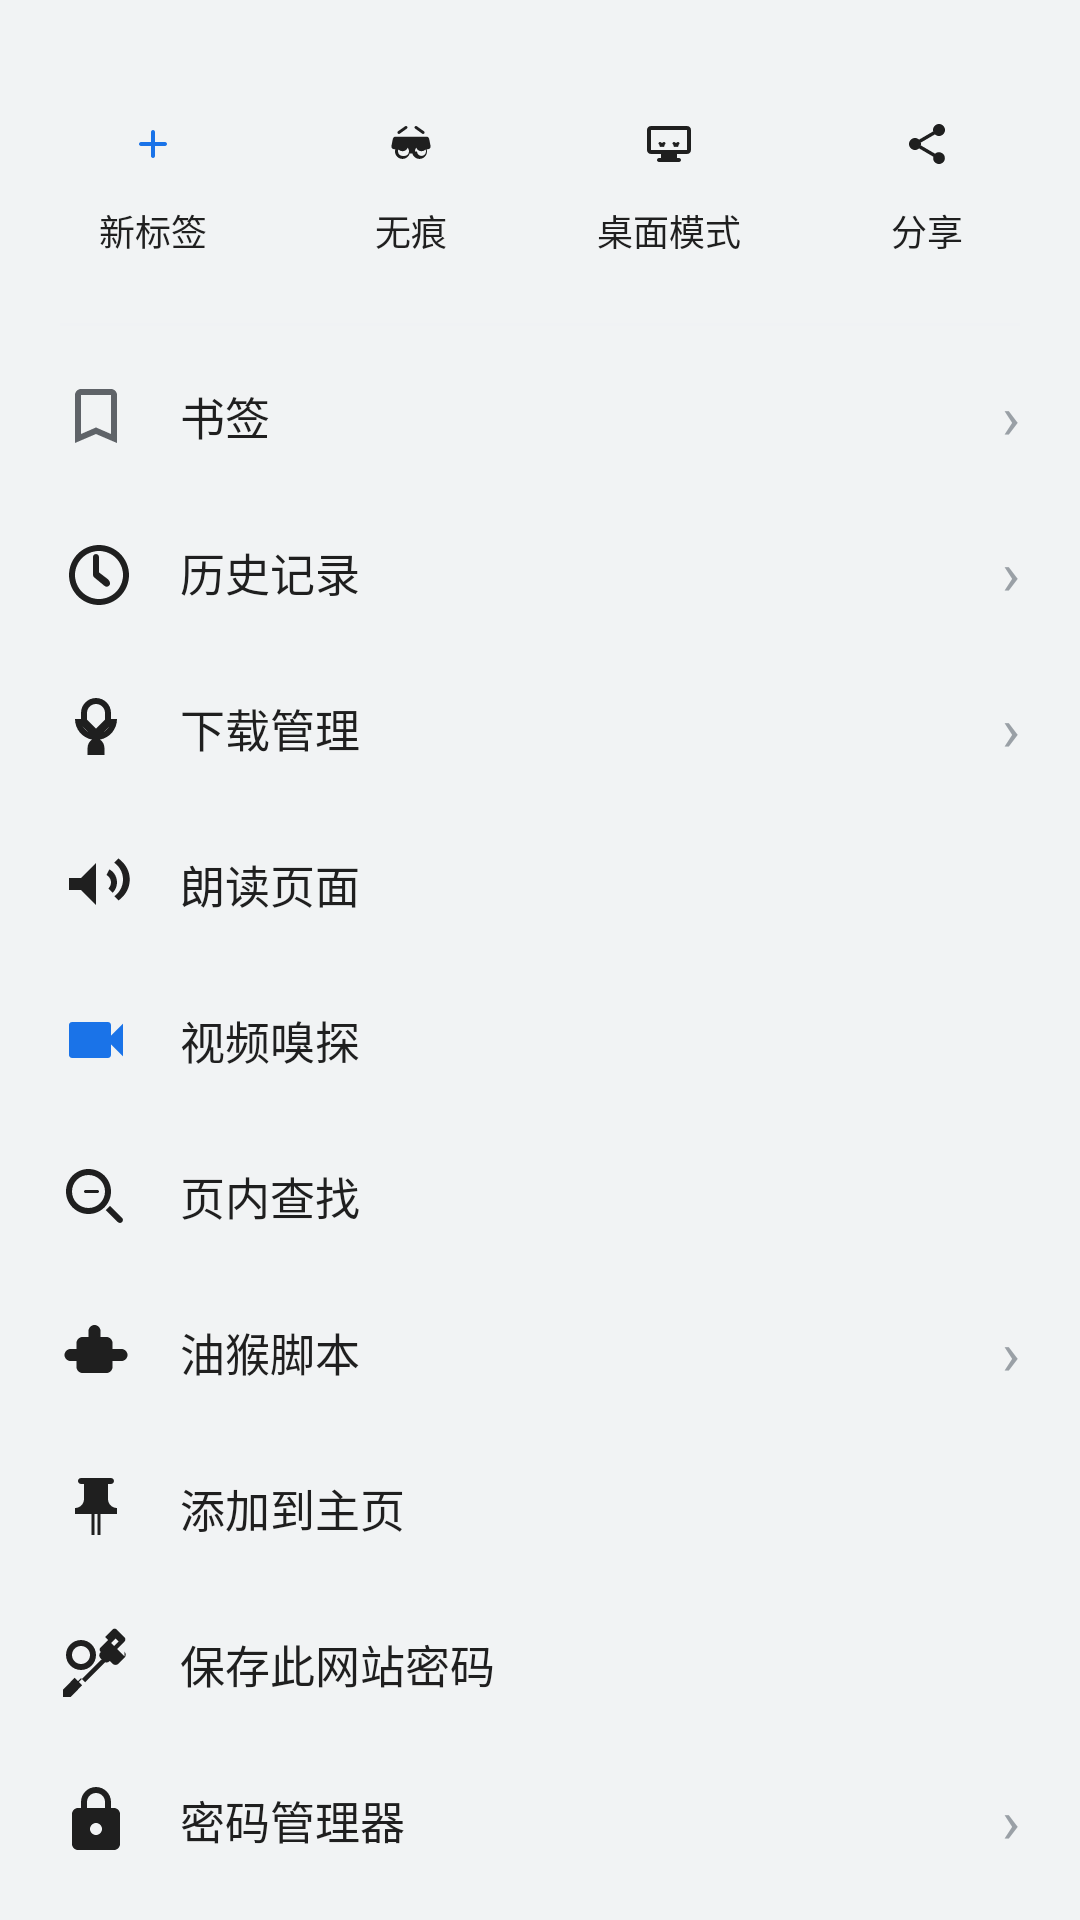

Named icons in this screenshot (1080px x 1920px) and their centers, (x=x, y=y):
add: (x=153, y=144)
bookmark: (x=96, y=416)
desktop: (x=669, y=144)
extension: (x=96, y=1349)
find in page: (x=94, y=1196)
history: (x=99, y=575)
incognito: (x=411, y=142)
lock: (x=96, y=1818)
pin: (x=96, y=1506)
share: (x=927, y=144)
video: (x=96, y=1040)
volume: (x=99, y=881)
